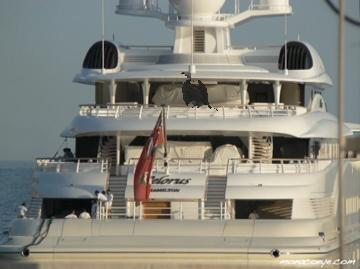tampered: (182, 73, 236, 111)
